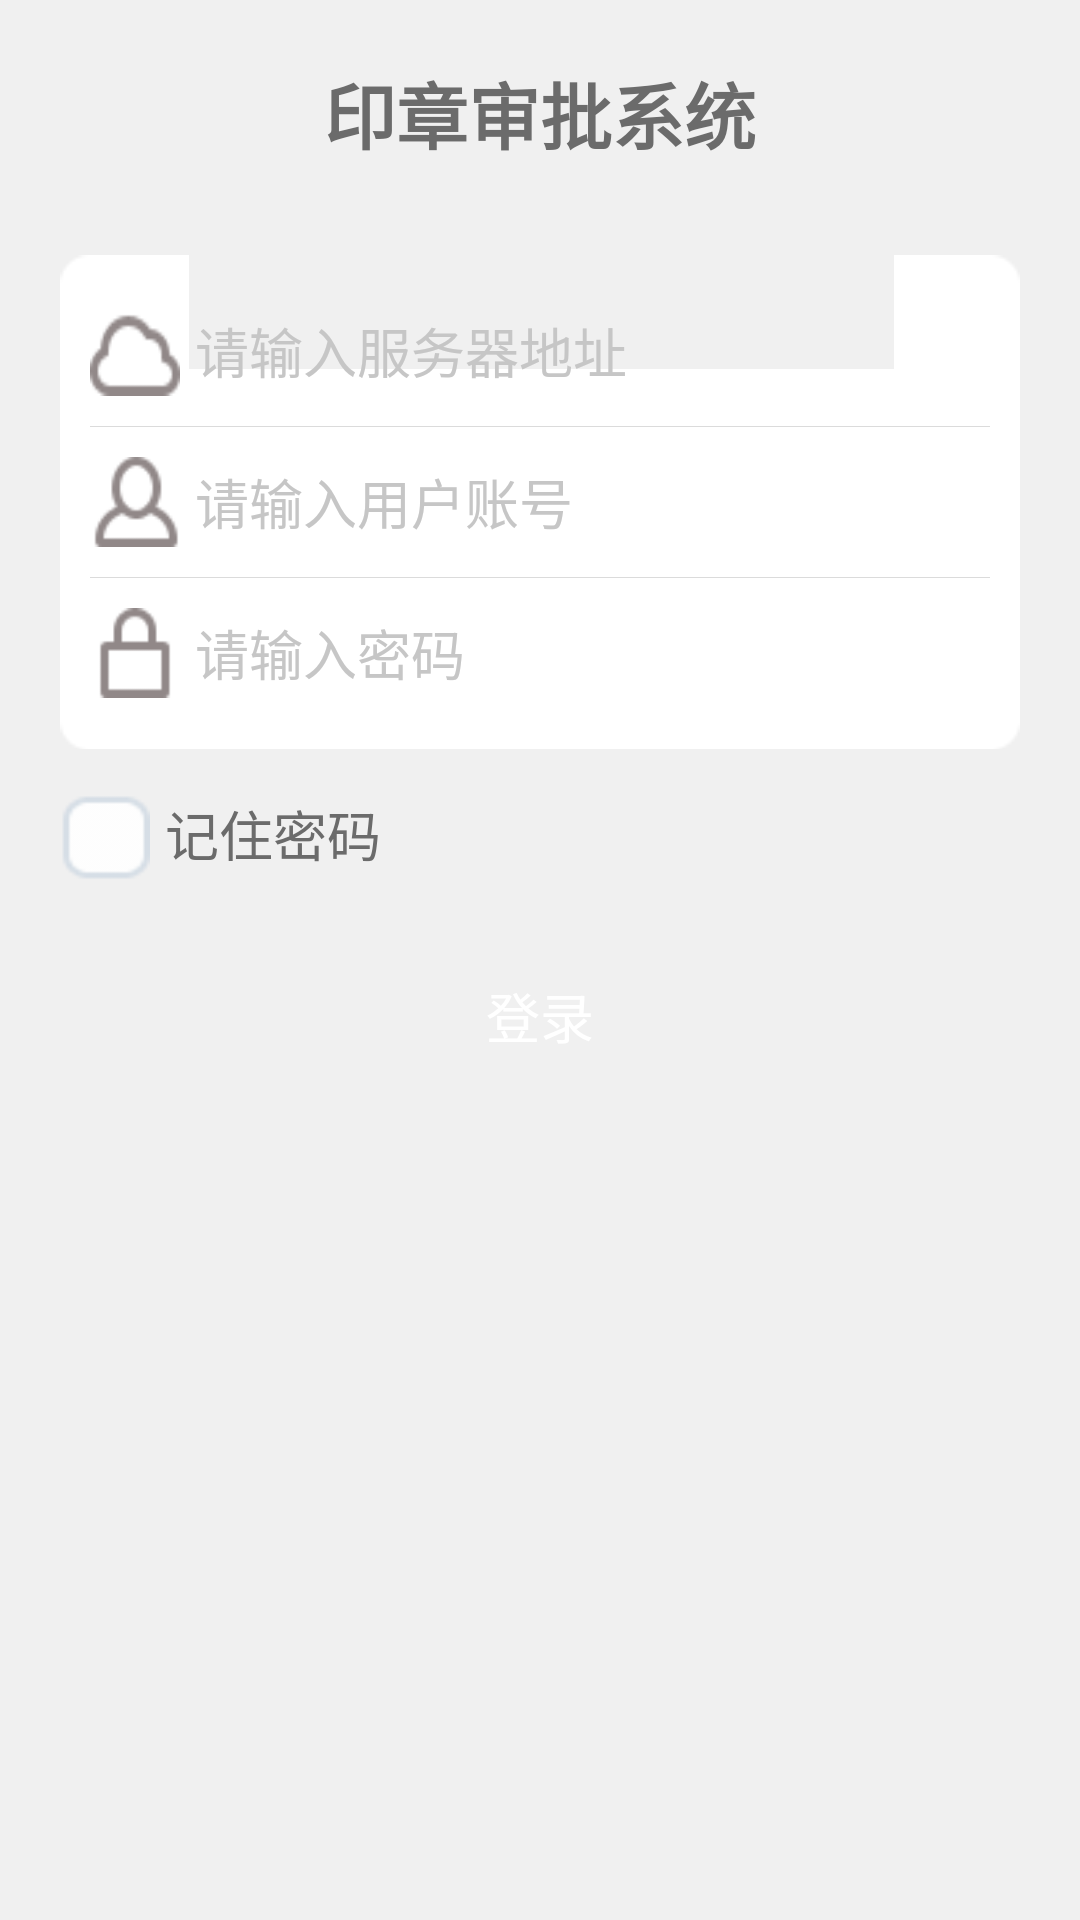

Icons on this 1080 × 1920 Android screen, each with the point to tap as (x=x, y=y):
login cloud: (x=135, y=355)
login lock: (x=135, y=653)
user: (x=136, y=502)
